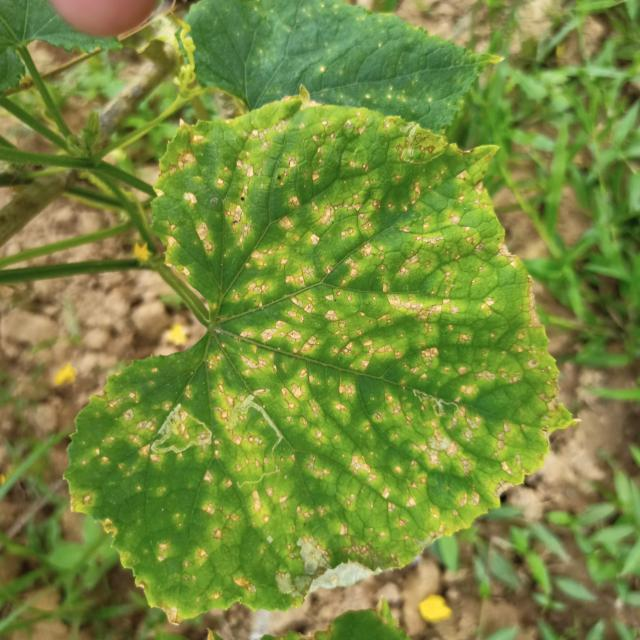disease_cucumber: (74, 120, 564, 610)
